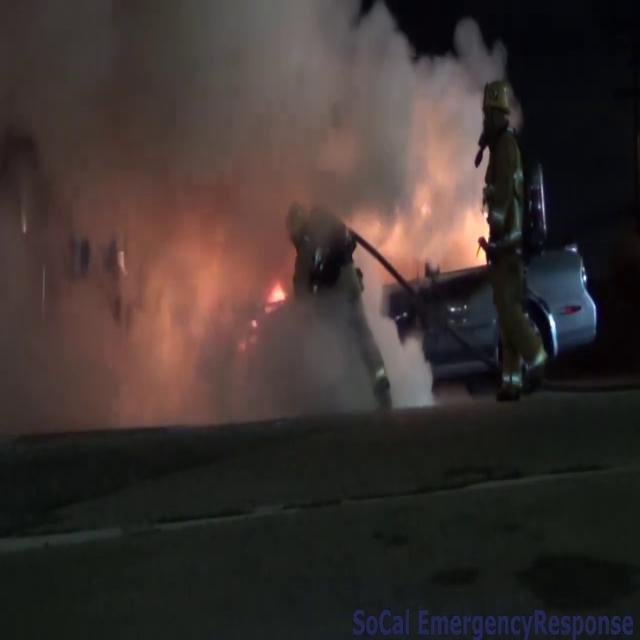Smoke: (0, 0, 442, 429)
